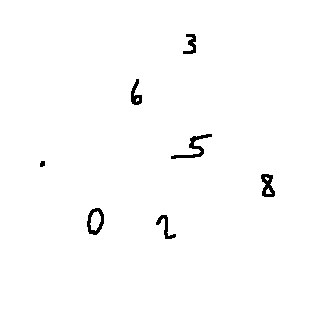.: (32, 154, 59, 174)
0: (85, 203, 115, 241)
2: (152, 209, 175, 252)
3: (171, 27, 205, 59)
5: (162, 130, 222, 173)
6: (121, 78, 152, 123)
8: (255, 164, 283, 202)
